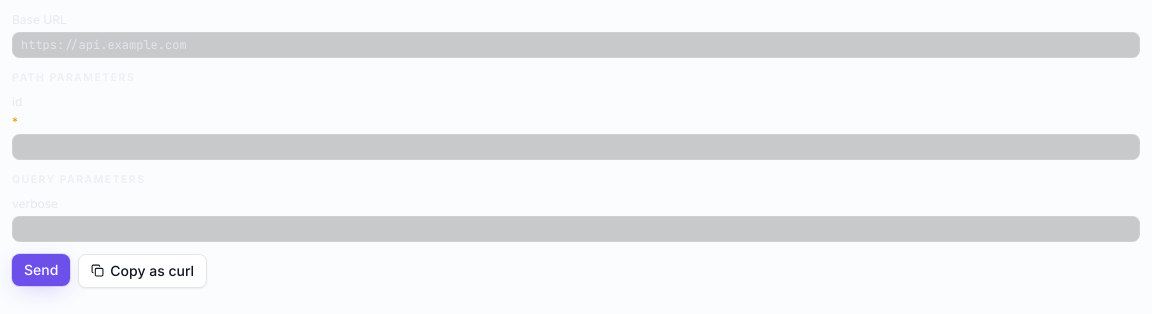
Test: <TryItForm /> › sends the request with typed param values and shows a loading state
In the field labelled "id *": (576, 147) x1=12 y1=134 x2=1140 y2=160, type "42"
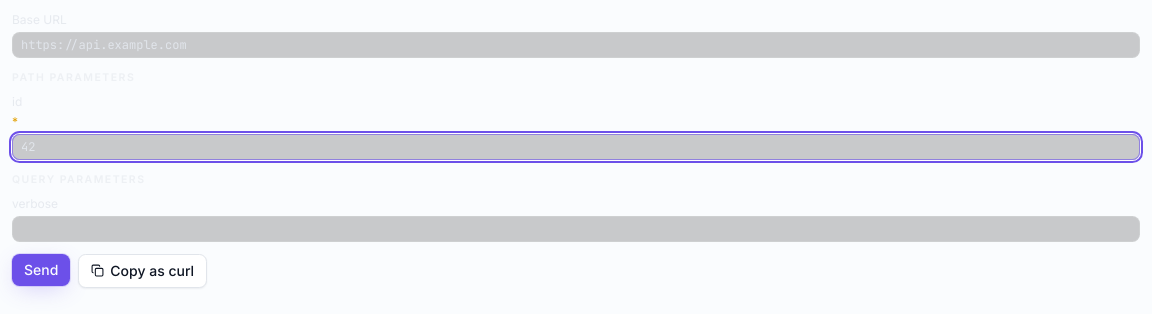
Click the button "Send": (41, 270) x1=12 y1=254 x2=70 y2=286
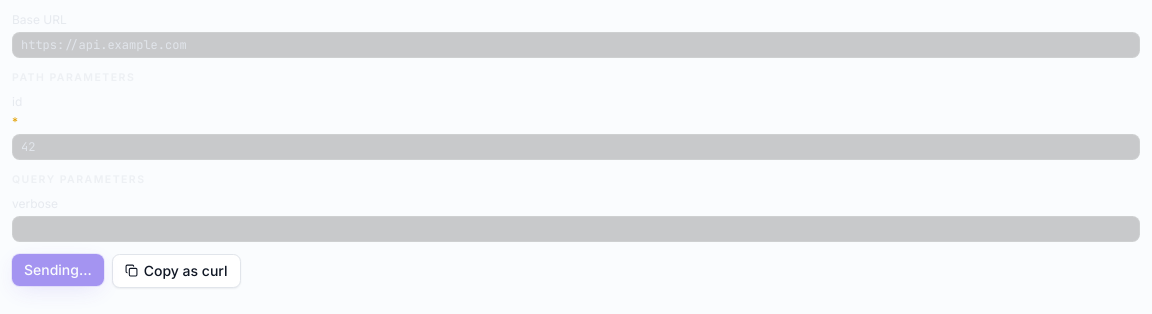
Check: the button "Sending…" is disabled, box x1=12 y1=254 x2=104 y2=286
